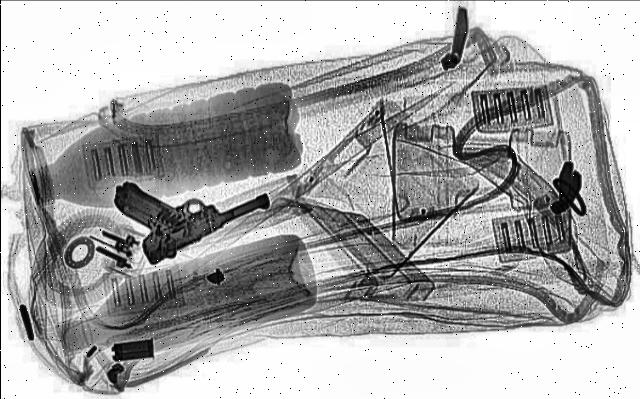Gun: (65, 146, 278, 266)
